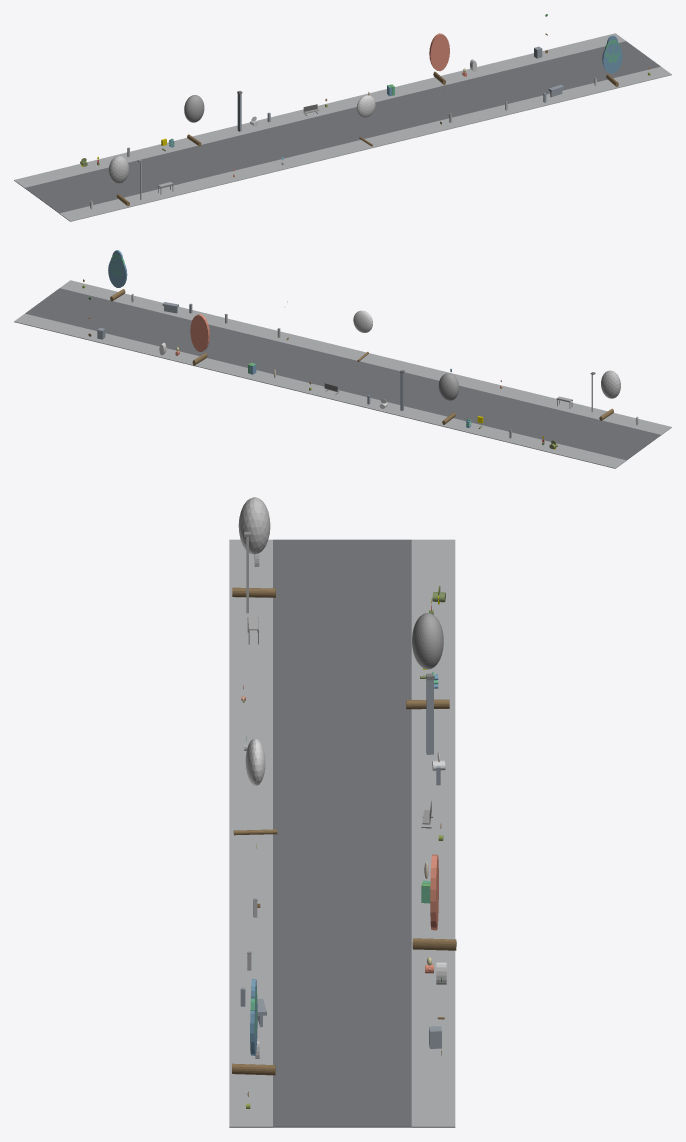
3 renders of one model, top to bottom at view 1: azimuth 30°, elevation 25°; view 2: azimuth 150°, elevation 25°; view 3: azimuth 270°, elevation 25°, orthographic. The views are drawn at different scales.
Parts seen in each view (by area): view 1: road_slab, sidewalk_left, sidewalk_right, inst_0015, inst_0016, inst_0012, inst_0013, inst_0014; view 2: road_slab, sidewalk_right, sidewalk_left, inst_0015, inst_0016, inst_0012, inst_0013, inst_0014; view 3: road_slab, sidewalk_left, sidewalk_right, inst_0012, inst_0013, inst_0015, inst_0016, inst_0014.
Part boxes in pixels (x1,y1,x2,y2): road_slab: (25, 41, 660, 213); sidewalk_left: (59, 66, 671, 221); sidewalk_right: (14, 33, 625, 188); inst_0015: (429, 33, 449, 85); inst_0016: (602, 35, 622, 86); inst_0012: (108, 155, 129, 206); inst_0013: (184, 95, 204, 146); inst_0014: (356, 95, 375, 146); road_slab: (25, 288, 660, 460); sidewalk_right: (14, 313, 626, 468); sidewalk_left: (60, 280, 671, 435); inst_0015: (190, 314, 209, 365); inst_0016: (108, 250, 127, 301); inst_0012: (599, 370, 620, 420); inst_0013: (438, 373, 458, 424); inst_0014: (353, 310, 372, 361); road_slab: (273, 539, 411, 1127); sidewalk_left: (229, 539, 272, 1127); sidewalk_right: (411, 539, 455, 1127); inst_0012: (232, 497, 275, 597); inst_0013: (406, 613, 449, 709); inst_0015: (412, 854, 456, 950); inst_0016: (232, 979, 275, 1075); inst_0014: (233, 738, 277, 835).
Size of the model in its own units: 80 by 6.08 by 13.08.
